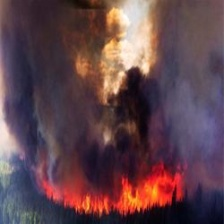fire: (41, 169, 188, 218)
smoke: (1, 2, 224, 152)
